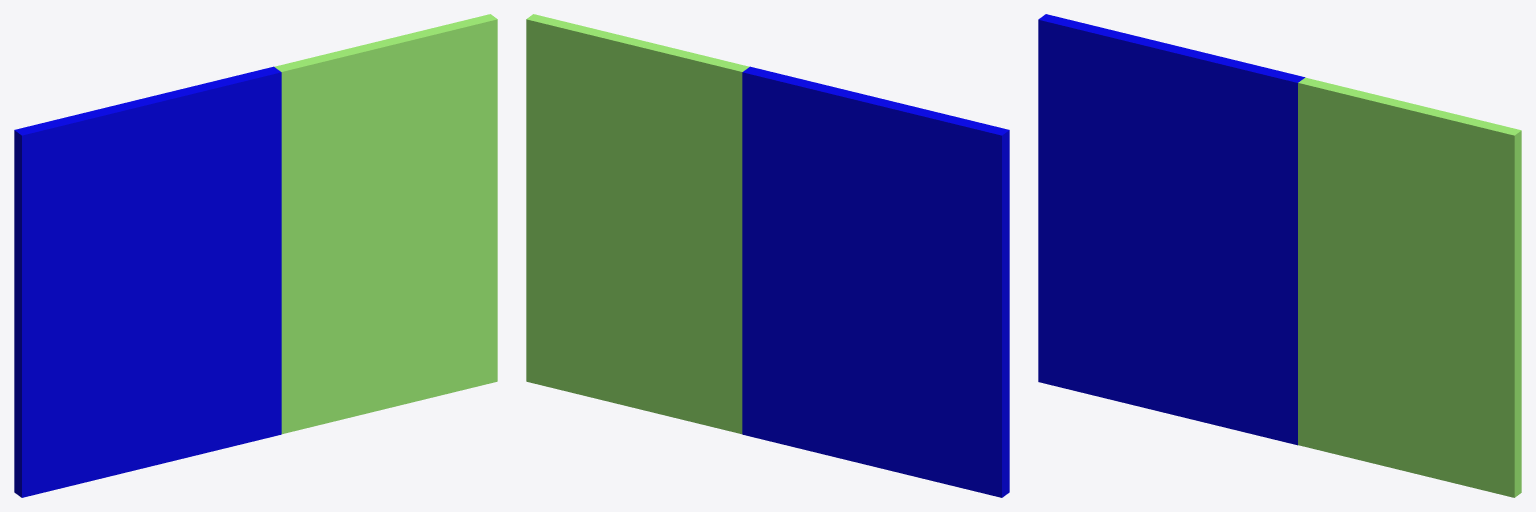
File: TwoWallsTwoColour.gltf
3 renders of one model, left to right at view 1: azimuth 30°, elevation 25°; view 2: azimuth 150°, elevation 25°; view 3: azimuth 330°, elevation 25°, orthographic.
Visible parts, largest first — view 1: 257_BasicWallWallExt_102Bwk50Air45Ins100DBlk12P285562, 150_BasicWallWallExt_102Bwk75Ins100LBlk12P285345; view 2: 257_BasicWallWallExt_102Bwk50Air45Ins100DBlk12P285562, 150_BasicWallWallExt_102Bwk75Ins100LBlk12P285345; view 3: 257_BasicWallWallExt_102Bwk50Air45Ins100DBlk12P285562, 150_BasicWallWallExt_102Bwk75Ins100LBlk12P285345.
Part boxes in pixels (x1=…): 257_BasicWallWallExt_102Bwk50Air45Ins100DBlk12P285562: x1=14, y1=66, x2=281, y2=497; 150_BasicWallWallExt_102Bwk75Ins100LBlk12P285345: x1=274, y1=14, x2=497, y2=434; 257_BasicWallWallExt_102Bwk50Air45Ins100DBlk12P285562: x1=742, y1=66, x2=1009, y2=497; 150_BasicWallWallExt_102Bwk75Ins100LBlk12P285345: x1=526, y1=14, x2=749, y2=434; 257_BasicWallWallExt_102Bwk50Air45Ins100DBlk12P285562: x1=1038, y1=14, x2=1305, y2=445; 150_BasicWallWallExt_102Bwk75Ins100LBlk12P285345: x1=1298, y1=77, x2=1521, y2=497.
Bounding box in the file's own units: 11 × 8 × 0.31.
